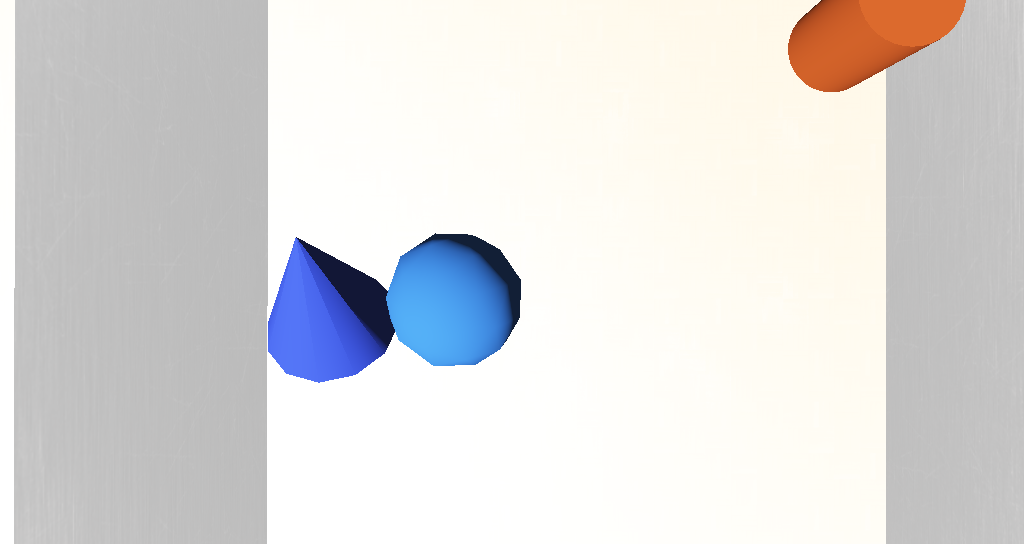cone: (610, 167, 670, 205)
cylinder: (347, 239, 421, 305)
sphere: (411, 253, 478, 301)
